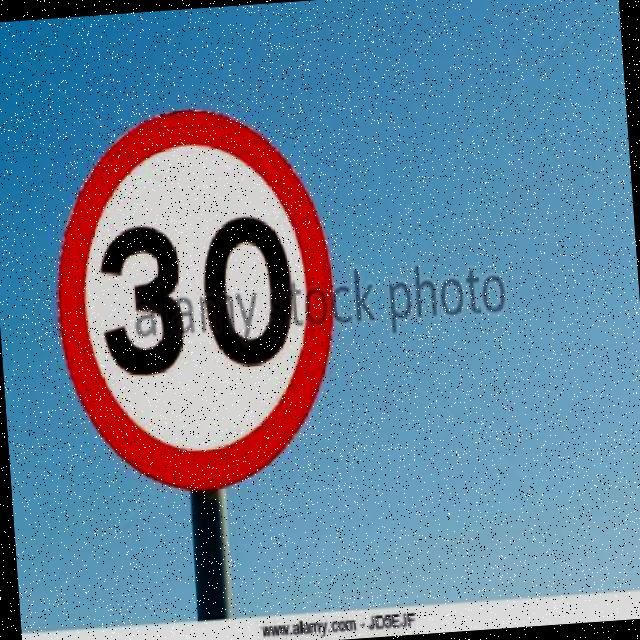Ograniczenie predkosci do 30: (49, 93, 339, 492)
